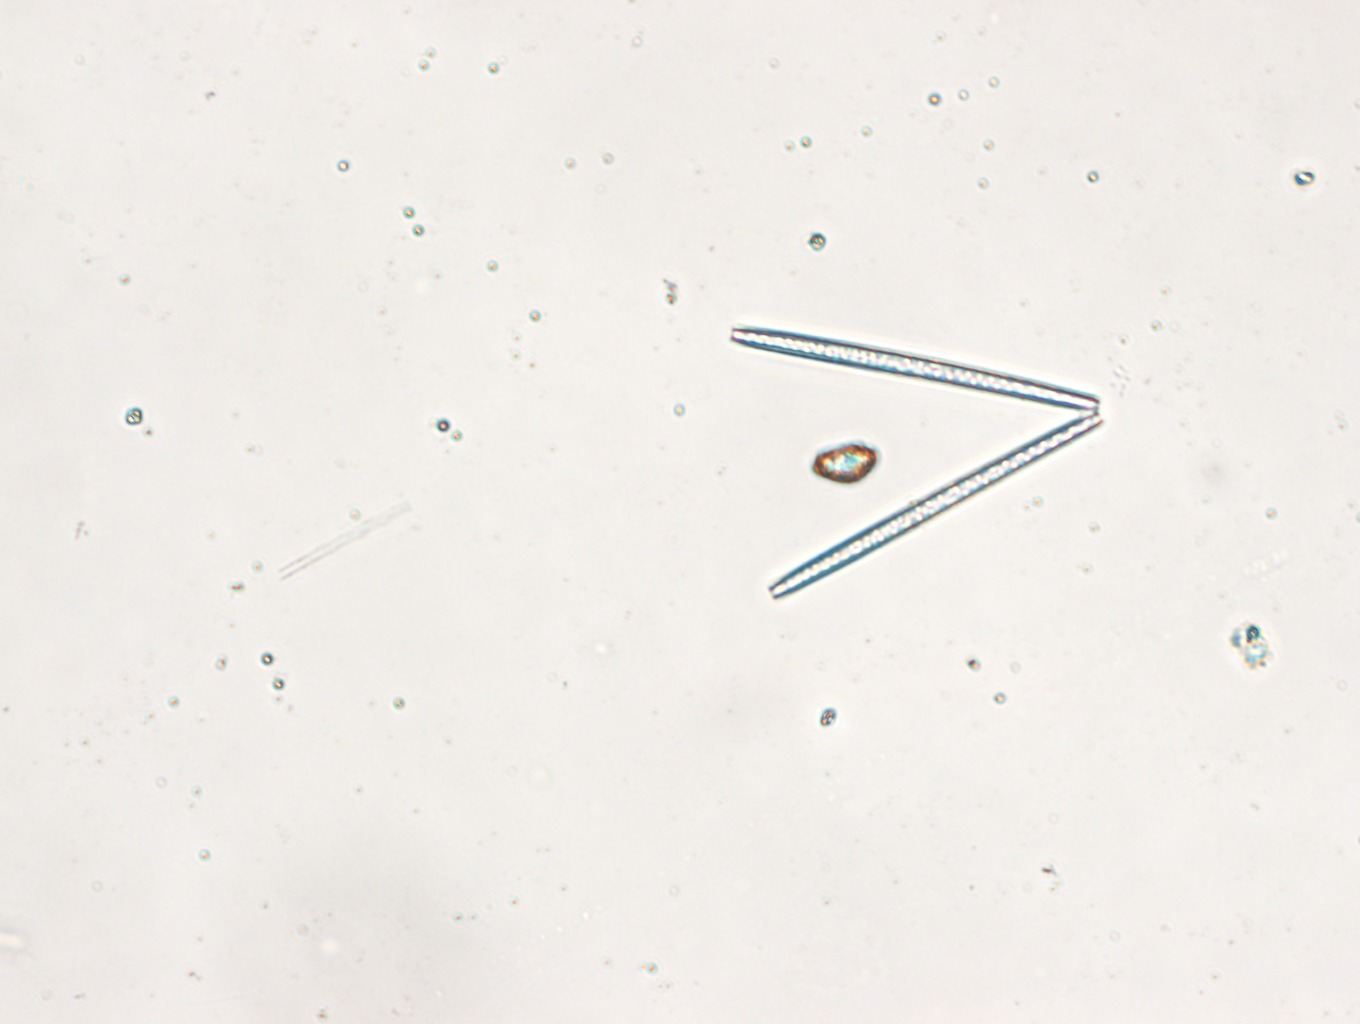thalassionema frauenfeldii: (722, 318, 1110, 601)
